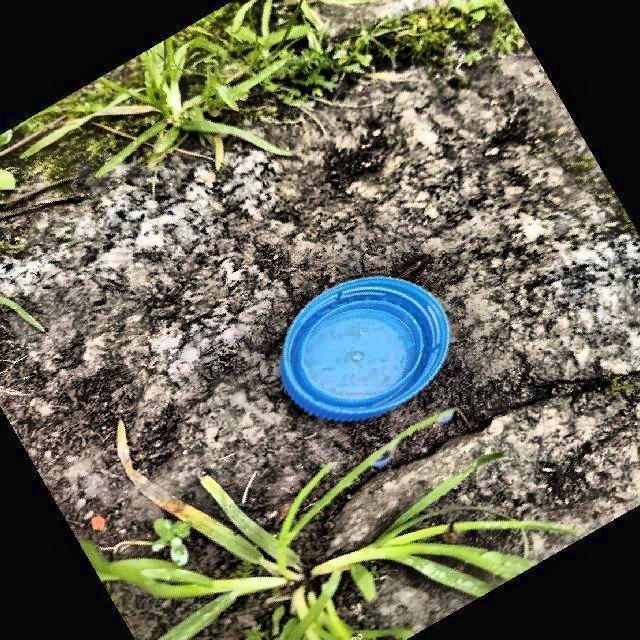plastic: (280, 276, 450, 421)
